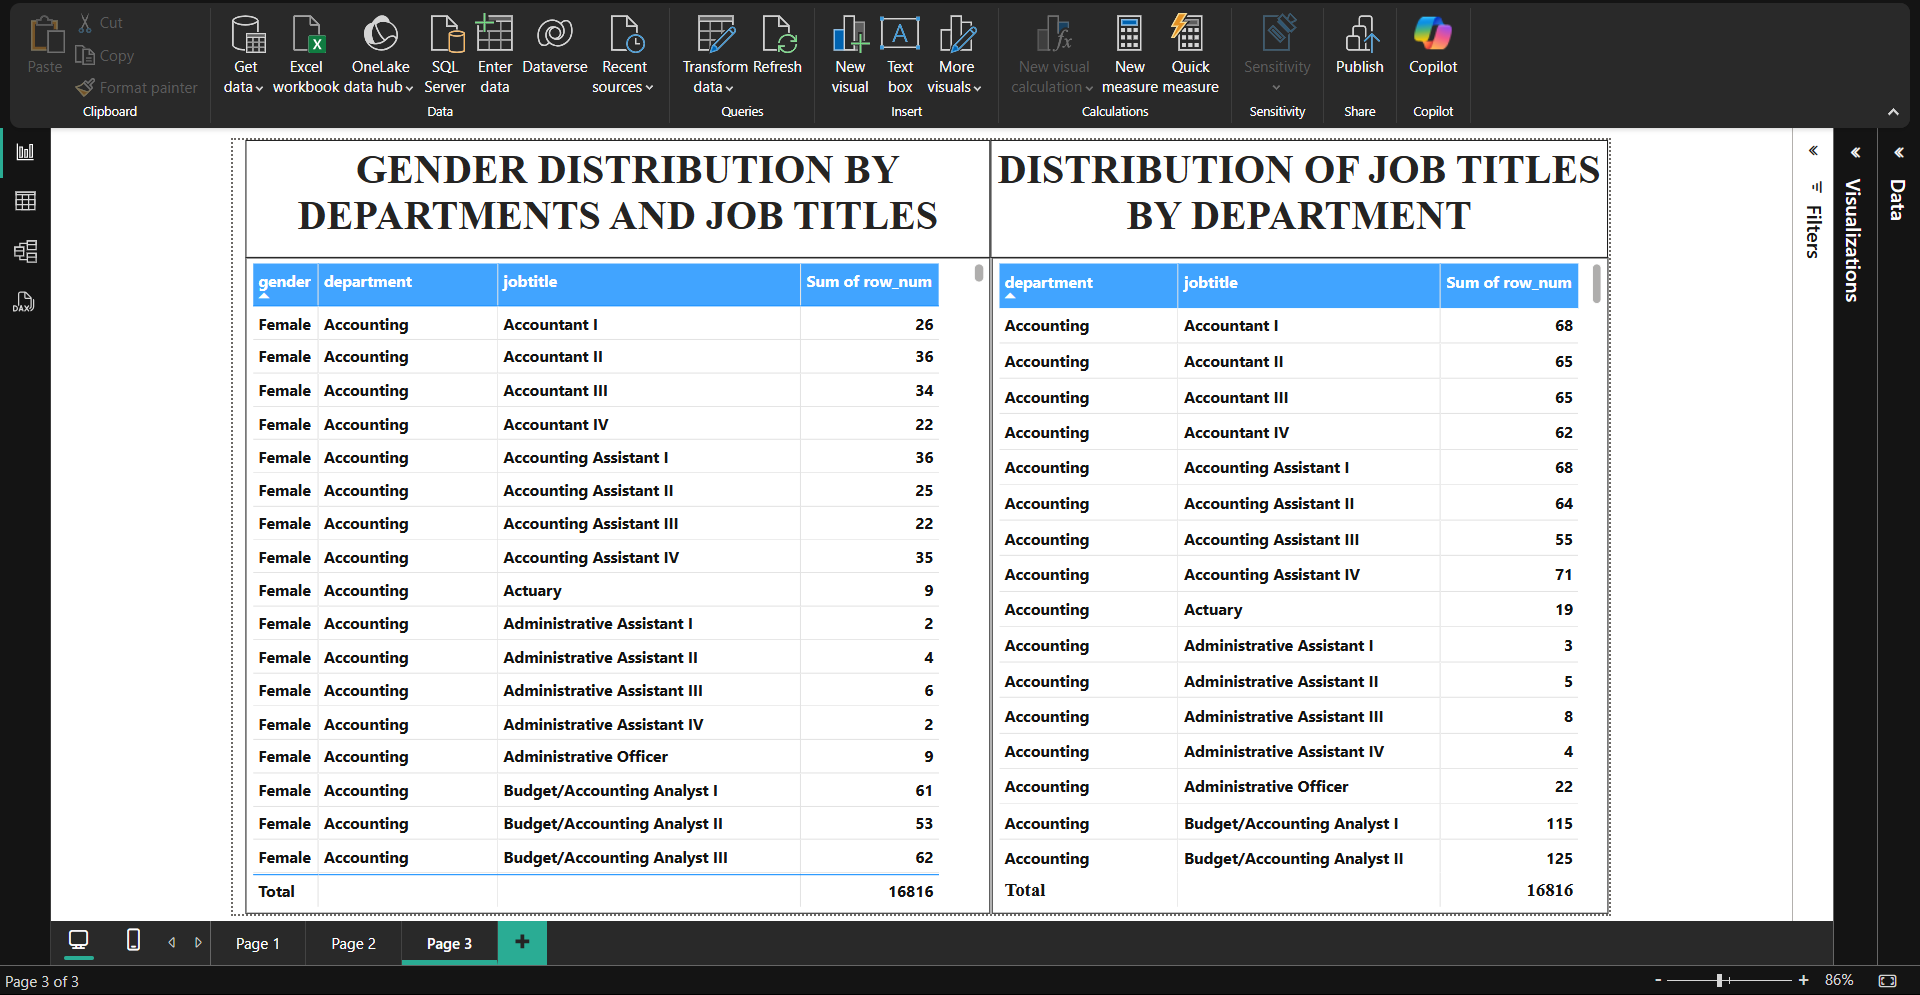

The page's visual inventory and layout, read from the dashboard file:
{"tool":"powerbi","page":{"name":"Page 3","canvas":[1280,720],"ordinal":2},"visuals":[{"type":"tableEx","fields":{"Values":["processed human resources file.gender","processed human resources file.department","processed human resources file.jobtitle","Sum(processed human resources file.row_num)"]},"box":[11.6,109.3,693,610.5],"z":0},{"type":"tableEx","fields":{"Values":["processed human resources file.department","processed human resources file.jobtitle","Sum(processed human resources file.row_num)"]},"box":[706,110.7,573.8,609.5],"z":1000},{"type":"textbox","box":[11.6,0,693,109.3],"z":2000},{"type":"textbox","box":[704.7,0,574.4,109.3],"z":3000}]}

Visuals, with their boxes on the page's 1280x720 design canvas (x1, y1, x2, y2). These are canvas units, not pixel positions in the 1920x995 screenshot, which may show the page scaled, cropped or inside an application window:
tableEx - processed human resources file.gender x processed human resources file.department: (12,109,705,720)
tableEx - processed human resources file.department x processed human resources file.jobtitle: (706,111,1280,720)
textbox: (12,0,705,109)
textbox: (705,0,1279,109)
